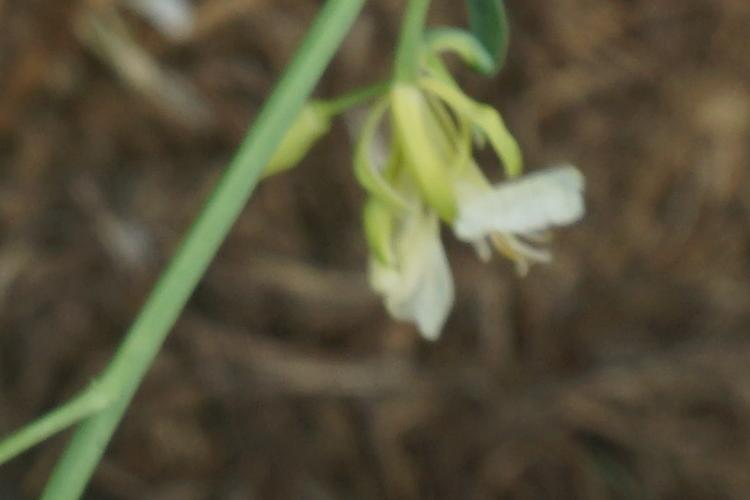white: (320, 76, 612, 331)
